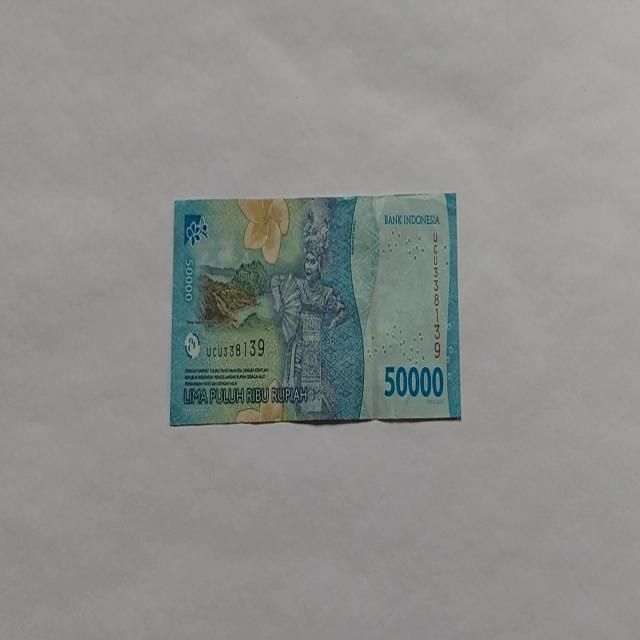lima puluh ribu rupiah: (168, 192, 462, 427)
